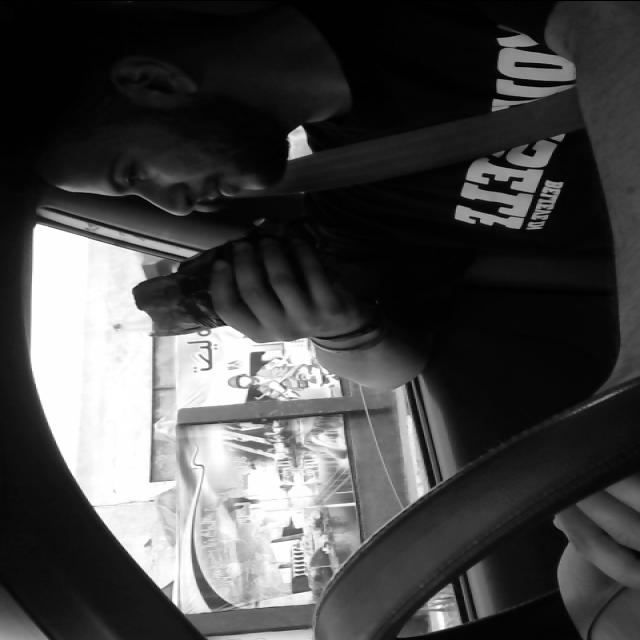eating: (125, 218, 396, 332)
